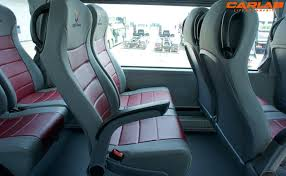seat: (44, 3, 191, 165)
